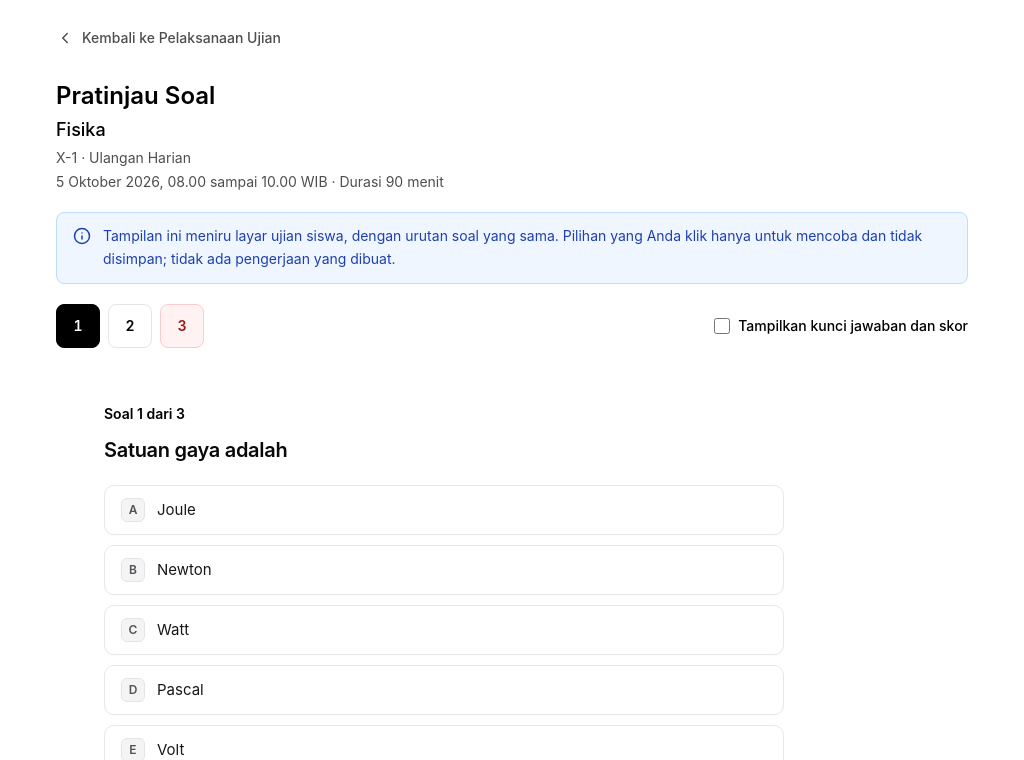
Test: TeacherExamPreviewView › shows one question at a time in order, like the exam screen, with the key only on request
This screenshot has width=1024, height=760.
Check: the text "Satuan gaya adalah" is shown, box x1=104 y1=436 x2=287 y2=464
Check: the text "5 Oktober 2026, 08.00 sampai 10.00 WIB · Durasi 90 menit" is shown, box x1=56 y1=172 x2=444 y2=192
Step 1. Click the checkbox labelled "Tampilkan kunci jawaban dan skor" → x=722, y=326, box x1=714 y1=318 x2=730 y2=334
(page scrolled)
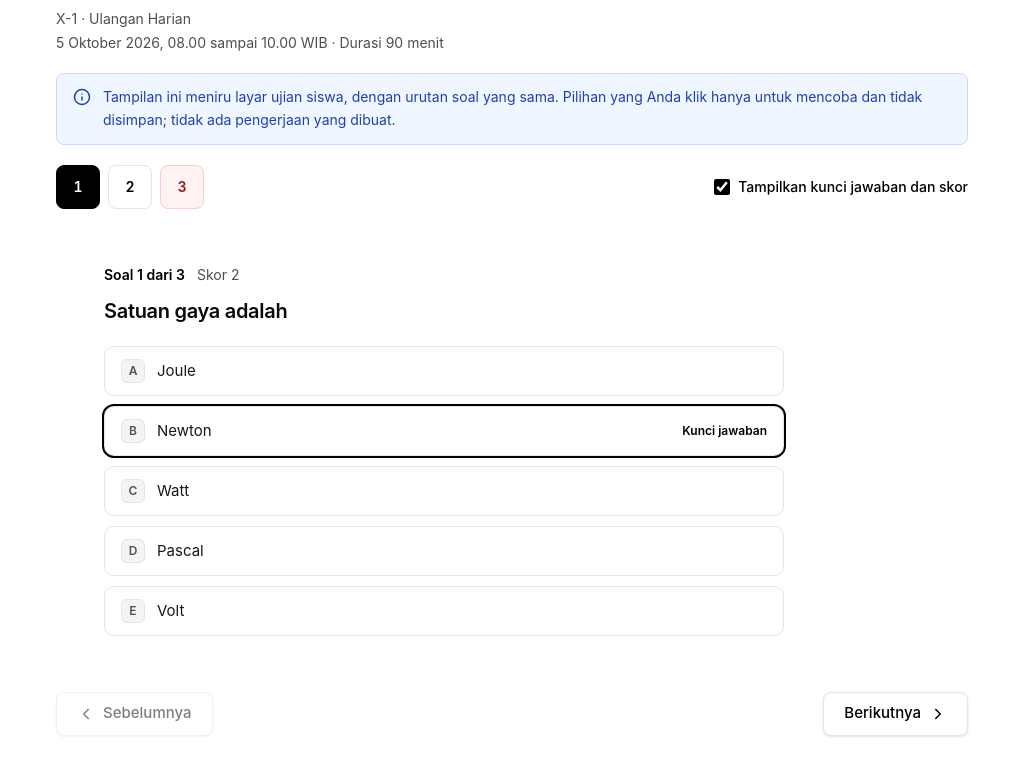
Check: the text "Kunci jawaban" is shown, box x1=682 y1=422 x2=767 y2=438
Check: the text "Skor 2" is shown, box x1=197 y1=264 x2=240 y2=284
Step 2. Click the button with aria-label "Soal Berikutnya" → x=896, y=714, box x1=823 y1=692 x2=968 y2=736
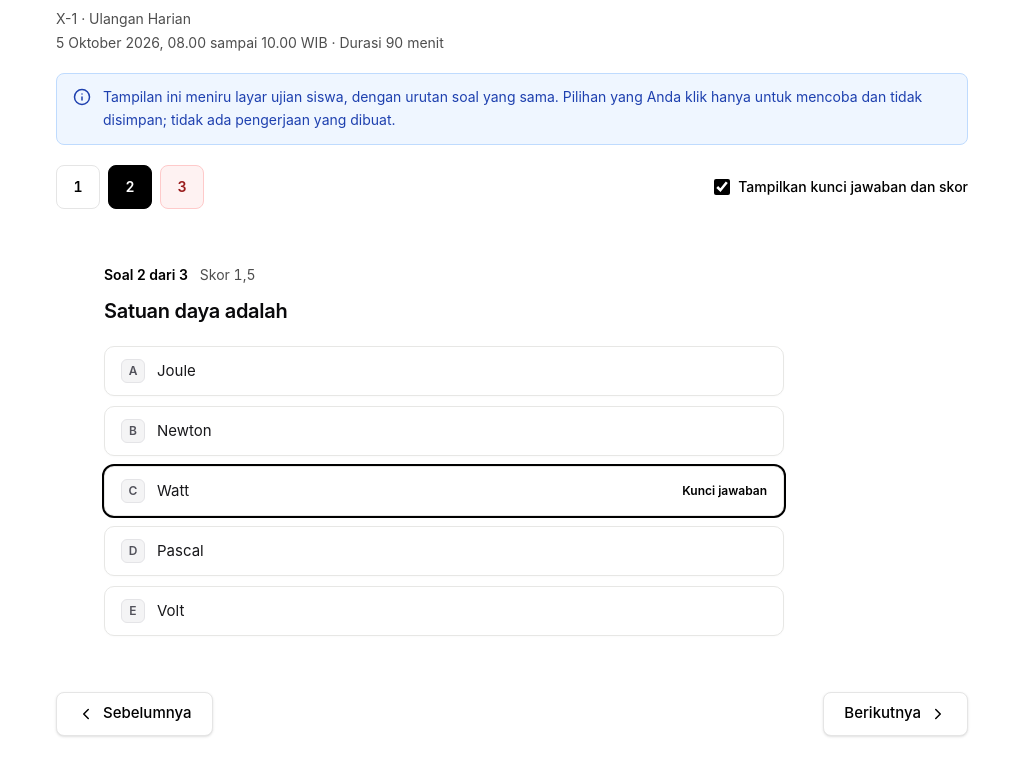
Check: the text "Kunci jawaban" is shown, box x1=682 y1=482 x2=767 y2=498
Check: the text "Satuan daya adalah" is shown, box x1=104 y1=296 x2=287 y2=326
Check: the text "Skor 1,5" is shown, box x1=200 y1=264 x2=256 y2=284
Step 3. Click the button named "Soal 1" → x=78, y=186, box x1=56 y1=164 x2=100 y2=208
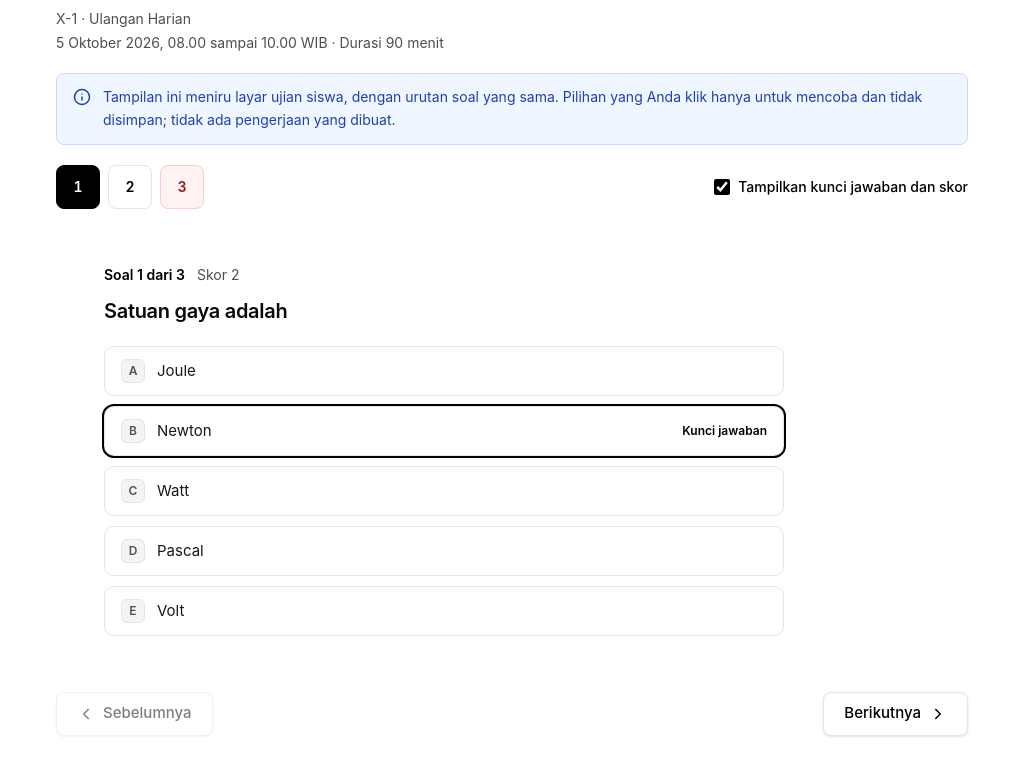
Check: the text "Satuan gaya adalah" is shown, box x1=104 y1=296 x2=287 y2=326
Check: the button with aria-label "Soal Sebelumnya" is disabled, box x1=56 y1=692 x2=213 y2=736
